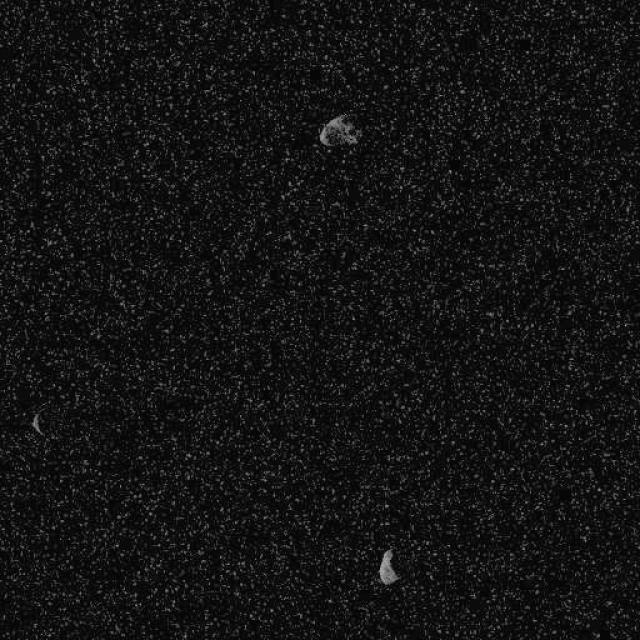D2: (318, 111, 362, 148), (378, 547, 400, 585), (30, 413, 44, 435)
